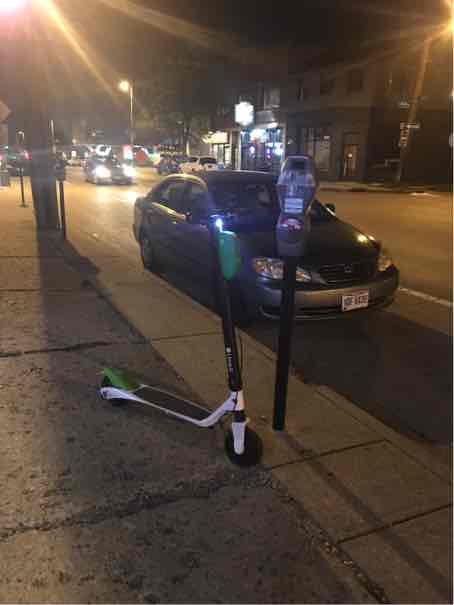scooter: (93, 191, 259, 476)
